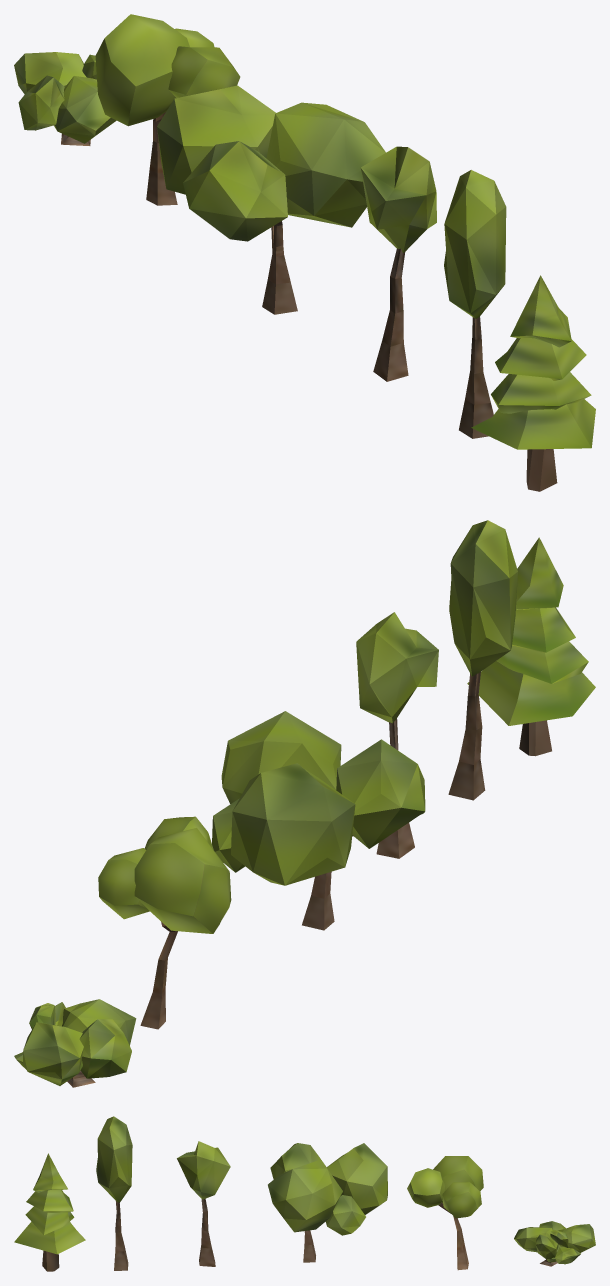
The model's file is tree_locations.glb.
3 renders of one model, top to bottom at view 1: azimuth 30°, elevation 25°; view 2: azimuth 150°, elevation 25°; view 3: azimuth 270°, elevation 25°, orthographic. The views are drawn at different scales.
Parts seen in each view (by area): view 1: Tree_3, pine, Tree_4, Tree_1, Tree_2, Bush_5; view 2: Tree_3, pine, Tree_4, Tree_1, Bush_5, Tree_2; view 3: Tree_3, pine, Tree_4, Tree_1, Tree_2, Bush_5.
Part boxes in pixels (box(x1,y1,x2,y2)): Tree_3: box(157, 85, 385, 314); pine: box(471, 275, 595, 491); Tree_4: box(95, 14, 240, 205); Tree_1: box(444, 170, 506, 438); Tree_2: box(360, 146, 436, 381); Bush_5: box(14, 52, 116, 145); Tree_3: box(212, 711, 425, 930); pine: box(467, 537, 595, 756); Tree_4: box(98, 816, 231, 1029); Tree_1: box(448, 520, 517, 800); Bush_5: box(14, 999, 136, 1087); Tree_2: box(356, 612, 438, 858); Tree_3: box(268, 1143, 387, 1262); pine: box(14, 1153, 85, 1271); Tree_4: box(407, 1156, 483, 1270); Tree_1: box(96, 1116, 132, 1270); Tree_2: box(177, 1141, 230, 1266); Bush_5: box(514, 1221, 595, 1266).
Bounding box in the file's own units: 2.19 × 2.89 × 10.24.
Materials: 1 (1 with a texture image).
